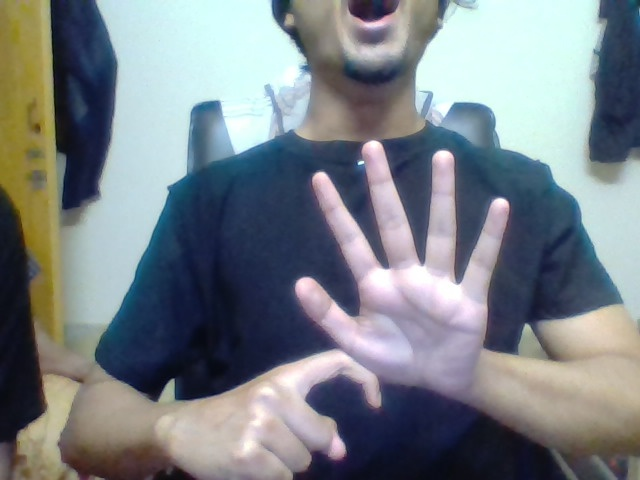R: (271, 343, 385, 467)
